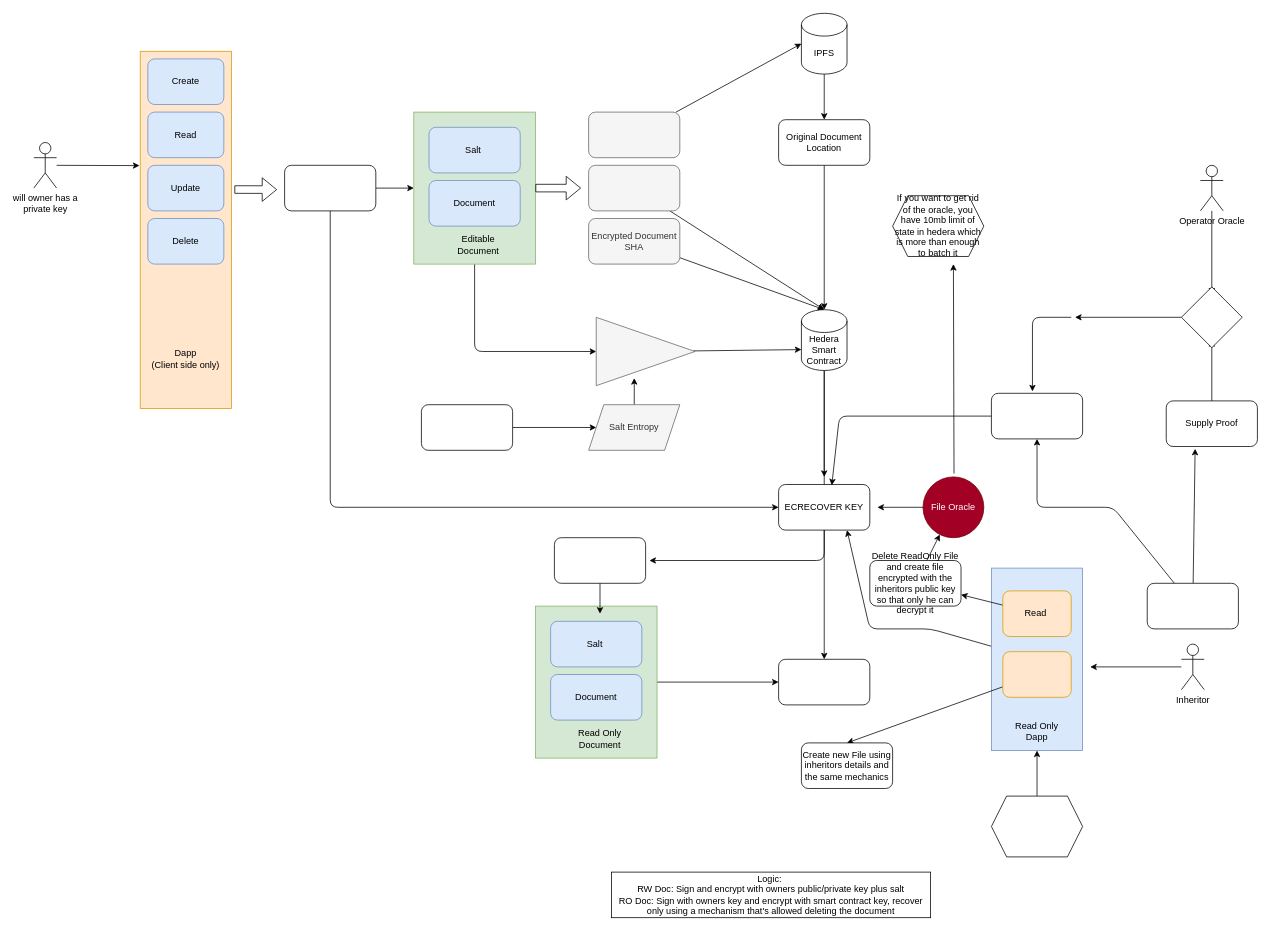
The diagram is 1271 pixels wide and 931 high, and some of its shapes have lost their labels. Here are the shapes that lost their labels. From the top down, the box of each, then its label:
(588, 111, 680, 158): Encrypted Document
(284, 165, 376, 211): PUBLIC KEY
(588, 165, 680, 211): Original Document SHA
(1181, 286, 1242, 348): Proof Ok?
(595, 317, 695, 386): Salt Generator
(421, 404, 513, 450): RandomNumber (based on salt)
(991, 393, 1083, 439): ECRECOVER MANAGEMENT
(554, 537, 646, 583): Intermediary Public Key
(1146, 583, 1238, 629): PK
(778, 659, 870, 705): Read Only Document Location
(1002, 651, 1071, 697): Decrypt
(991, 795, 1083, 857): Important! (same transaction)
